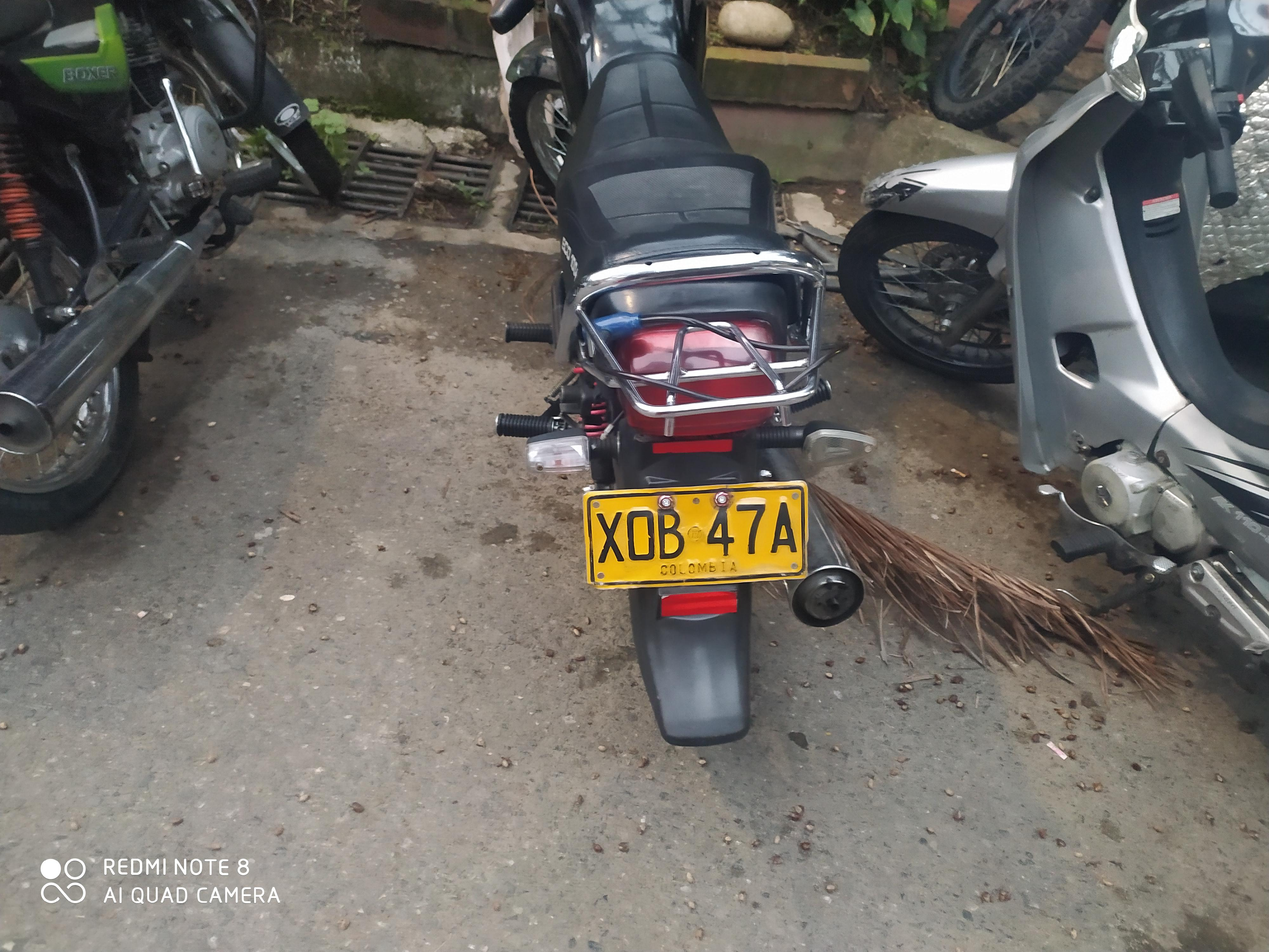placa: (569, 470, 816, 596)
